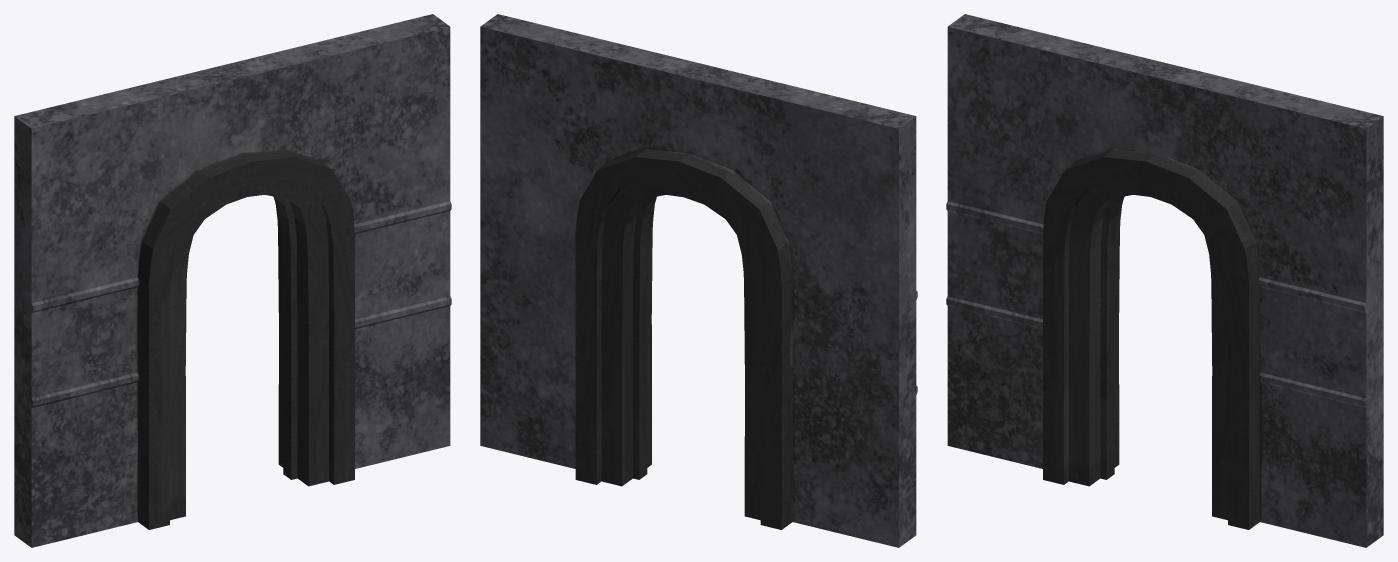
The model's file is Doorframe_Textured.fbx.
3 views of the same model, side by side, from view 1: azimuth 30°, elevation 25°; view 2: azimuth 150°, elevation 25°; view 3: azimuth 330°, elevation 25° (orthographic).
Parts seen in each view (by area): view 1: pasted__Doorframe2; view 2: pasted__Doorframe2; view 3: pasted__Doorframe2.
Part boxes in pixels (<box>): pasted__Doorframe2: <box>14,14,451,547</box>; pasted__Doorframe2: <box>480,14,917,547</box>; pasted__Doorframe2: <box>946,14,1383,547</box>.
Bounding box in the file's own units: 13.47 × 12.88 × 2.2.
1 material, 1 textured.
